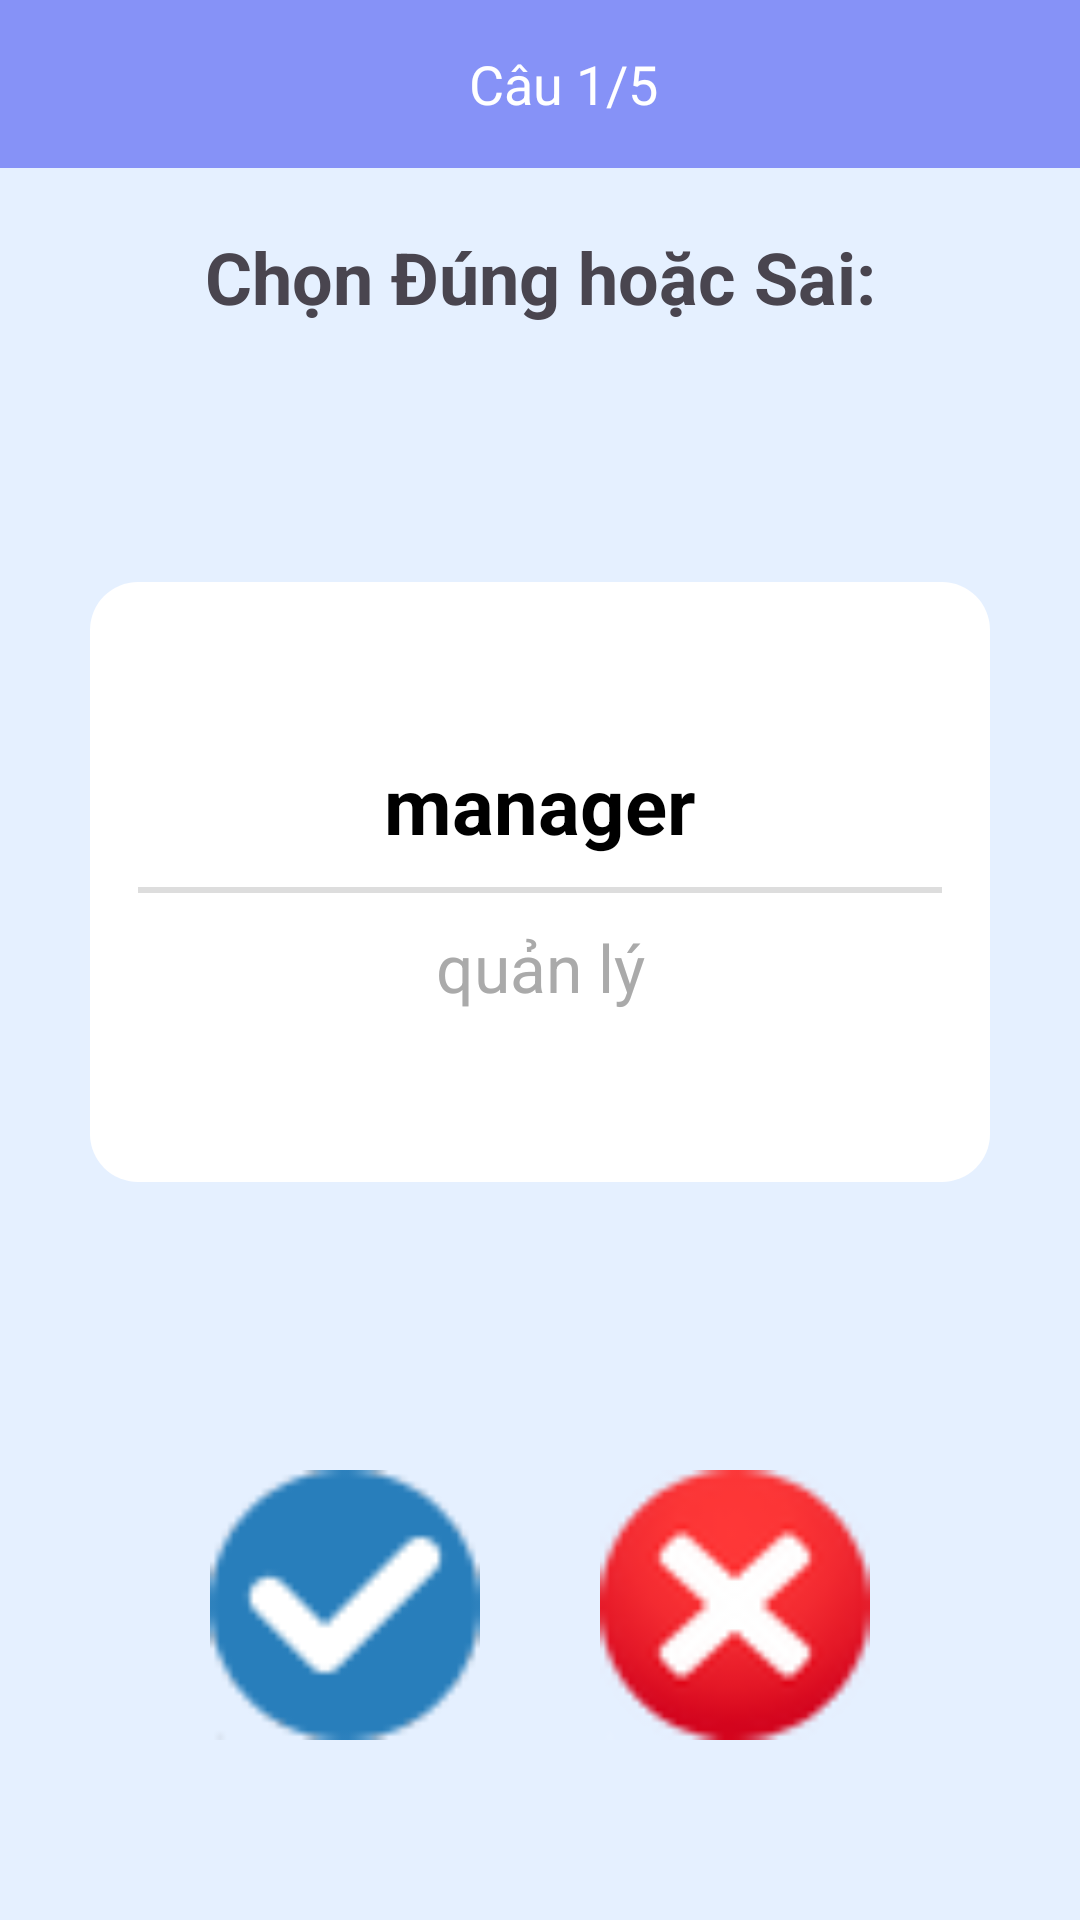

Where icons sit on this 1080x1920 app screen, as (x1, y1, x2, y2):
Sai: (600, 1470, 870, 1740)
Đúng: (210, 1470, 480, 1740)
